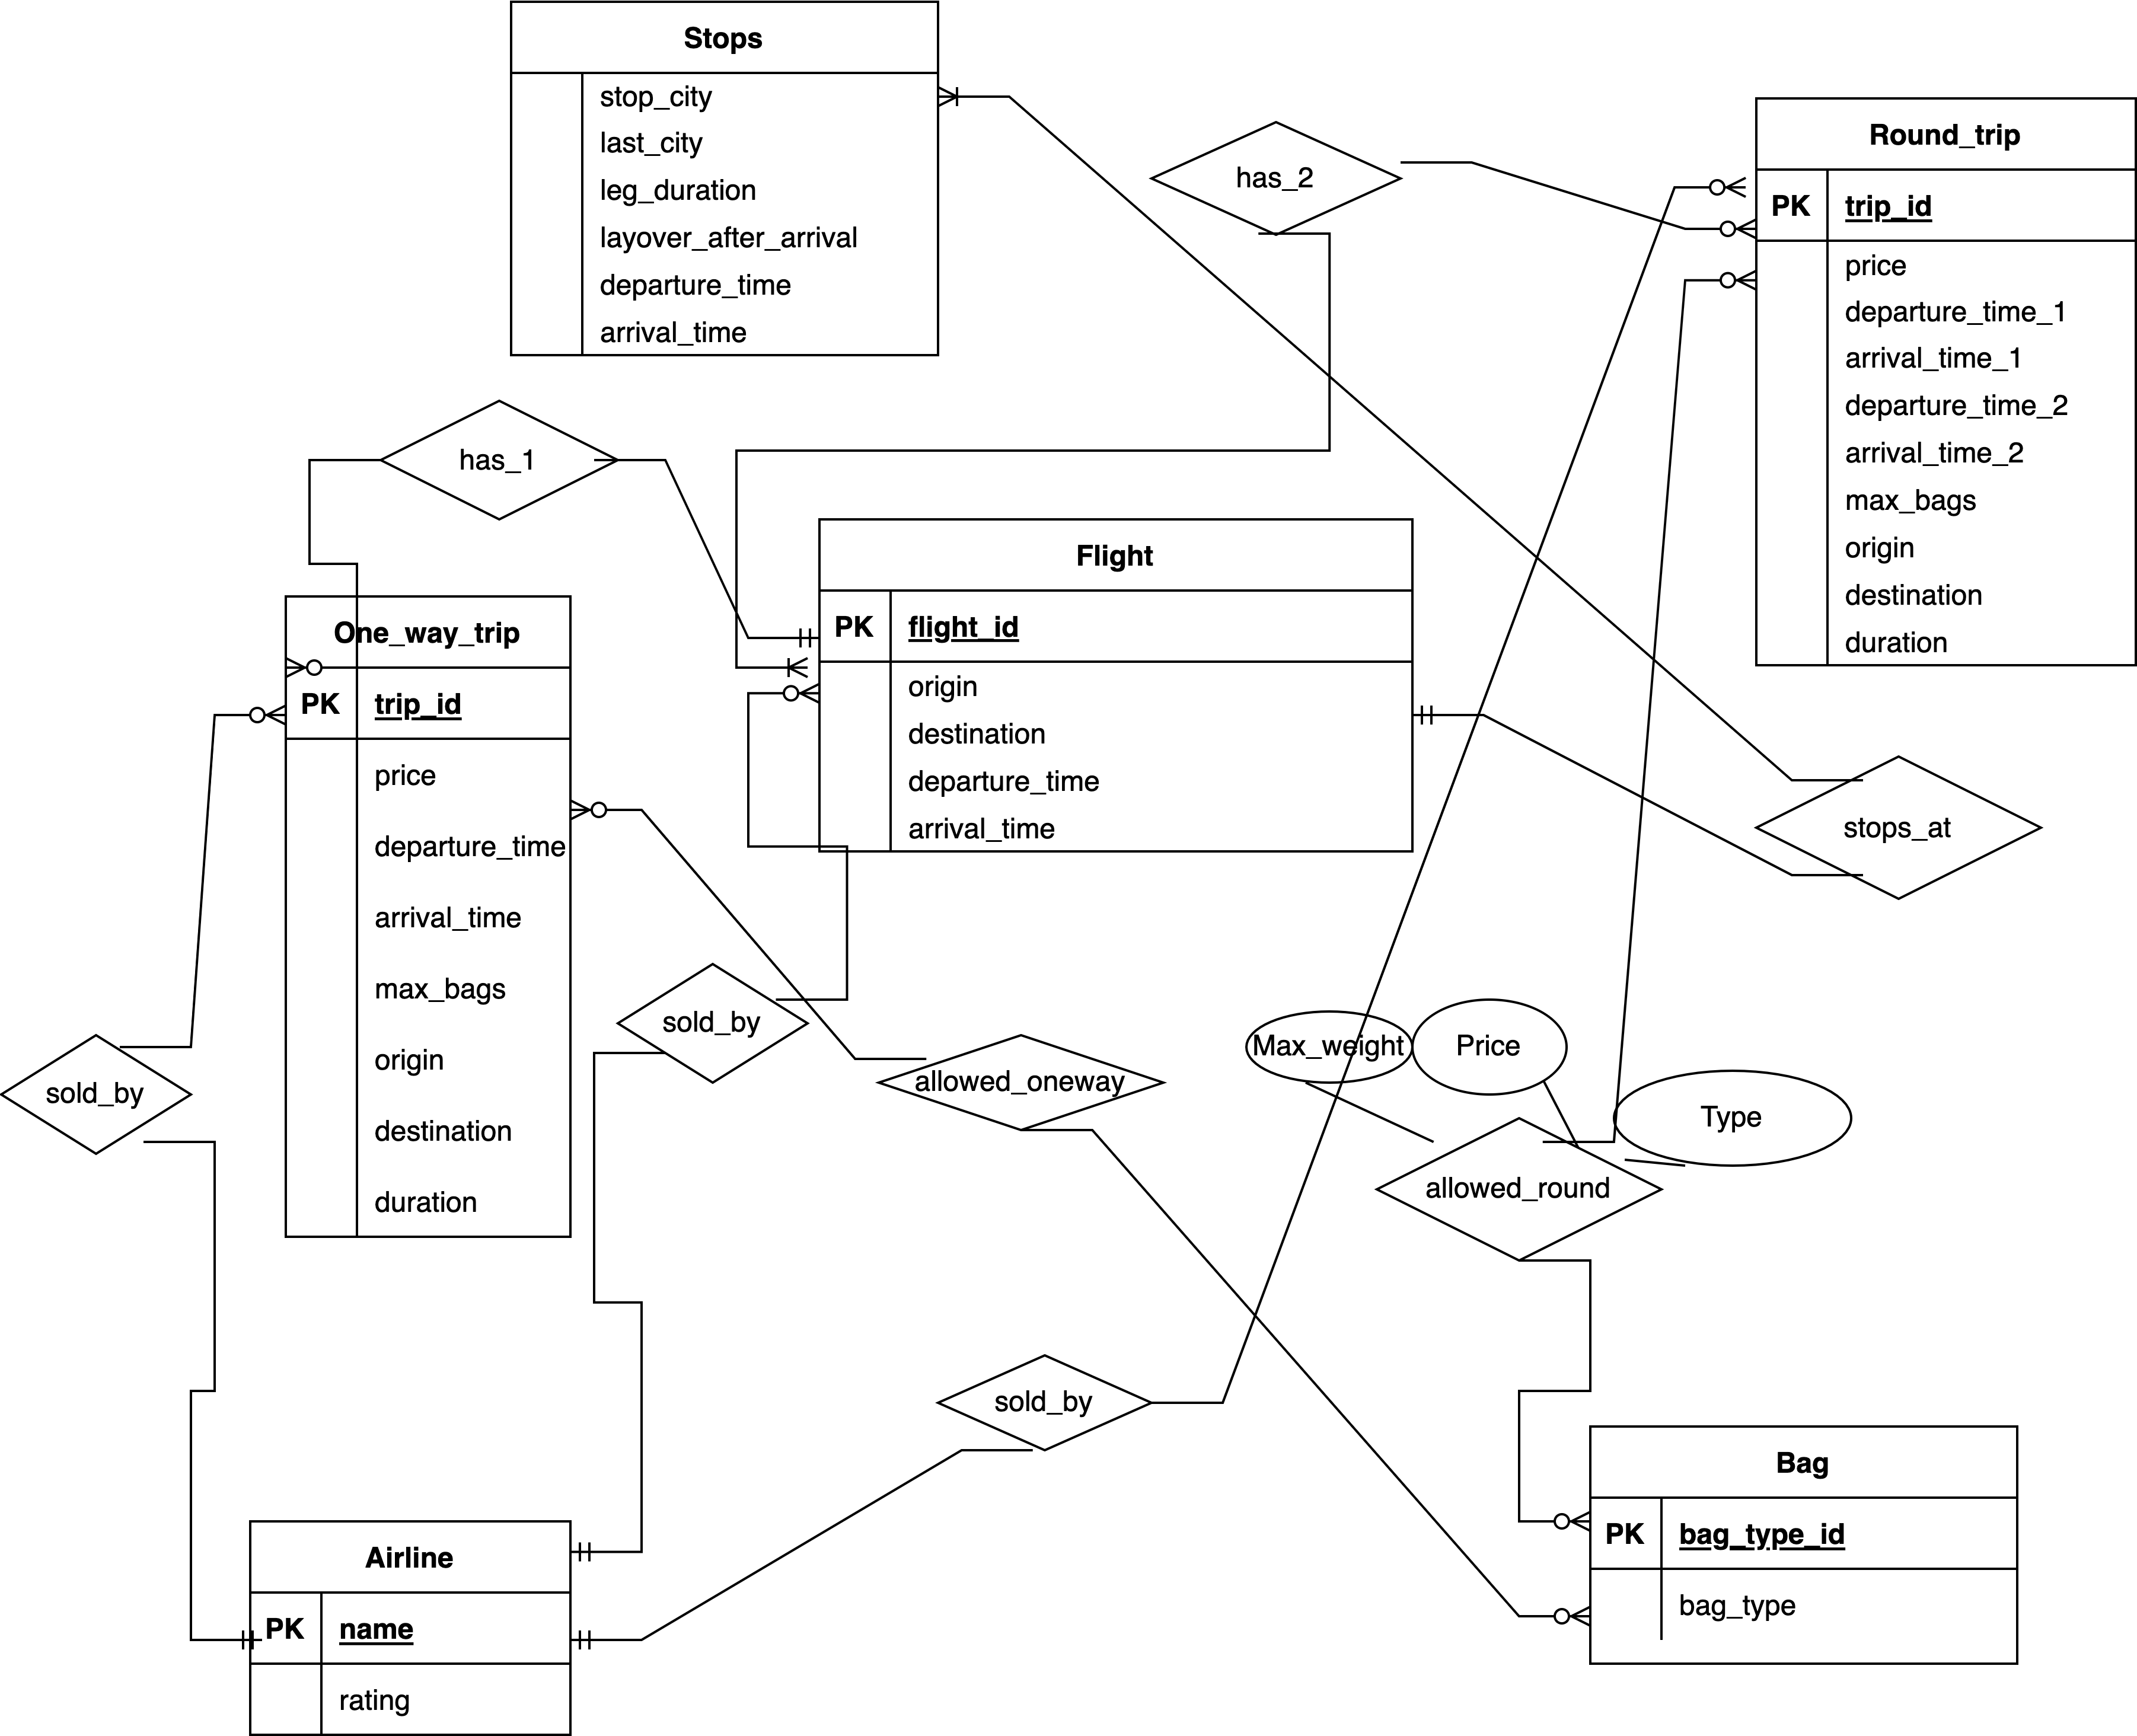entity: (1760, 99, 2137, 668), (815, 519, 1412, 852), (284, 597, 574, 1240), (512, 0, 937, 358), (1589, 1426, 2022, 1667), (246, 1522, 567, 1736)
many: (1519, 1598, 1591, 1633), (1675, 174, 1756, 204), (1519, 1507, 1589, 1538), (571, 797, 645, 824), (213, 703, 285, 730), (1683, 220, 1758, 244), (739, 655, 808, 682), (1683, 269, 1756, 294), (750, 682, 820, 707), (939, 85, 1010, 106), (285, 657, 344, 680)
one: (190, 1626, 257, 1656), (574, 1626, 641, 1656), (748, 625, 817, 654), (1410, 707, 1478, 730), (571, 1543, 640, 1564)
rel: (1375, 1120, 1667, 1263), (1754, 756, 2041, 902), (874, 1033, 1166, 1135), (1154, 122, 1405, 232), (379, 400, 615, 517), (4, 1035, 197, 1159), (618, 964, 808, 1081), (934, 1355, 1157, 1447)
rel_attr: (1612, 1072, 1855, 1169), (1414, 996, 1572, 1098), (1244, 1010, 1414, 1084)
